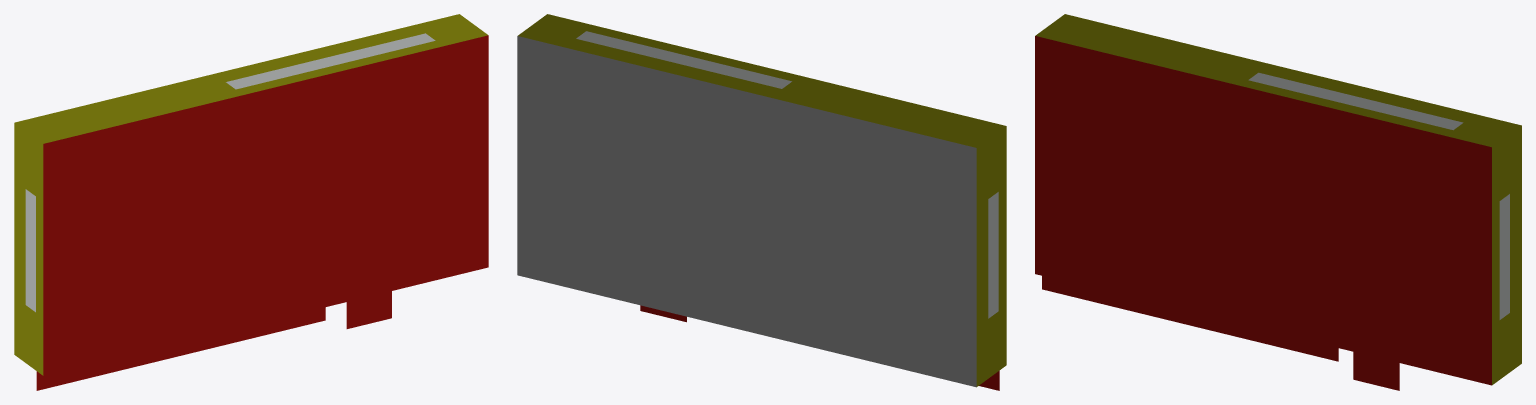
The model's file is idf.obj.
3 views of the same model, side by side, from view 1: azimuth 30°, elevation 25°; view 2: azimuth 150°, elevation 25°; view 3: azimuth 330°, elevation 25° (orthographic). The views are drawn at different scales.
Bounding box in the file's own units: 30.5 × 17.2 × 3.45.
